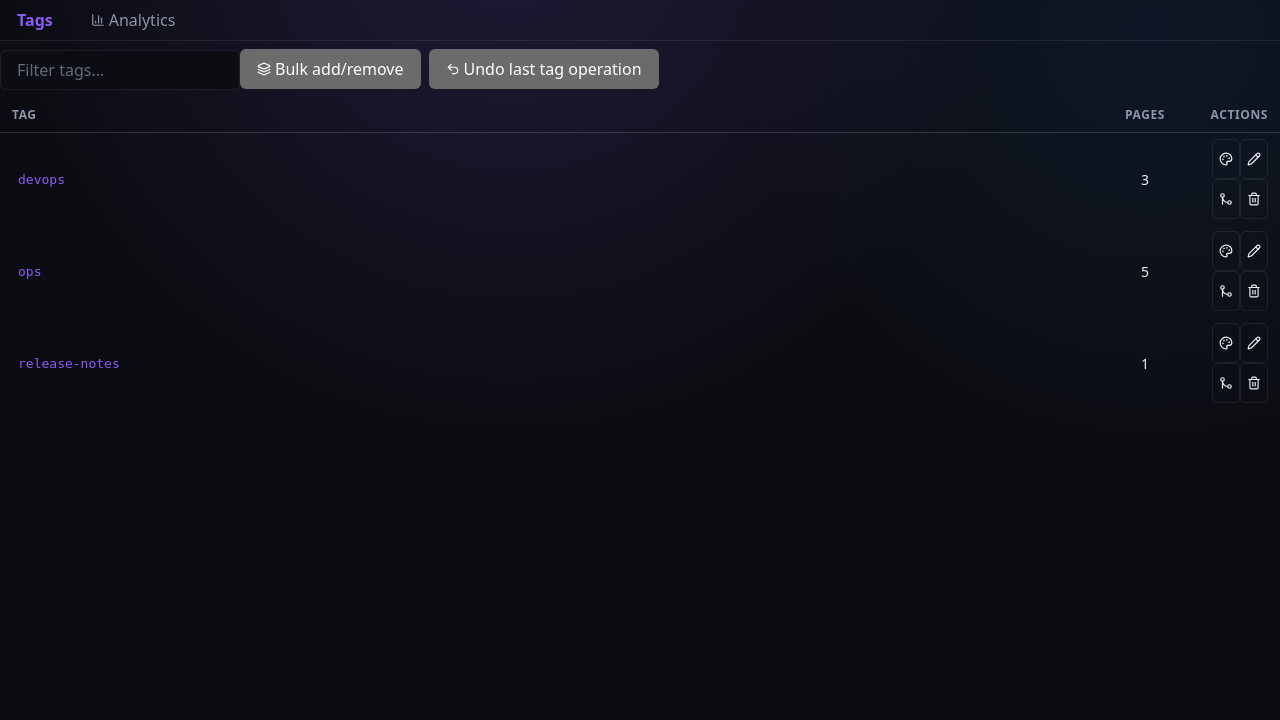
TagManagement (TM-04) › delete: preview with a body_affected page renders the body #tags marker (TR-05)
expect the table is shown: met, box [0, 98, 1279, 409]
// Open delete for "ops" — auto-preview fires and returns a body_affected page.
Click the 2nd button named "delete". click: x=1254, y=291
box: [1240, 271, 1268, 311]
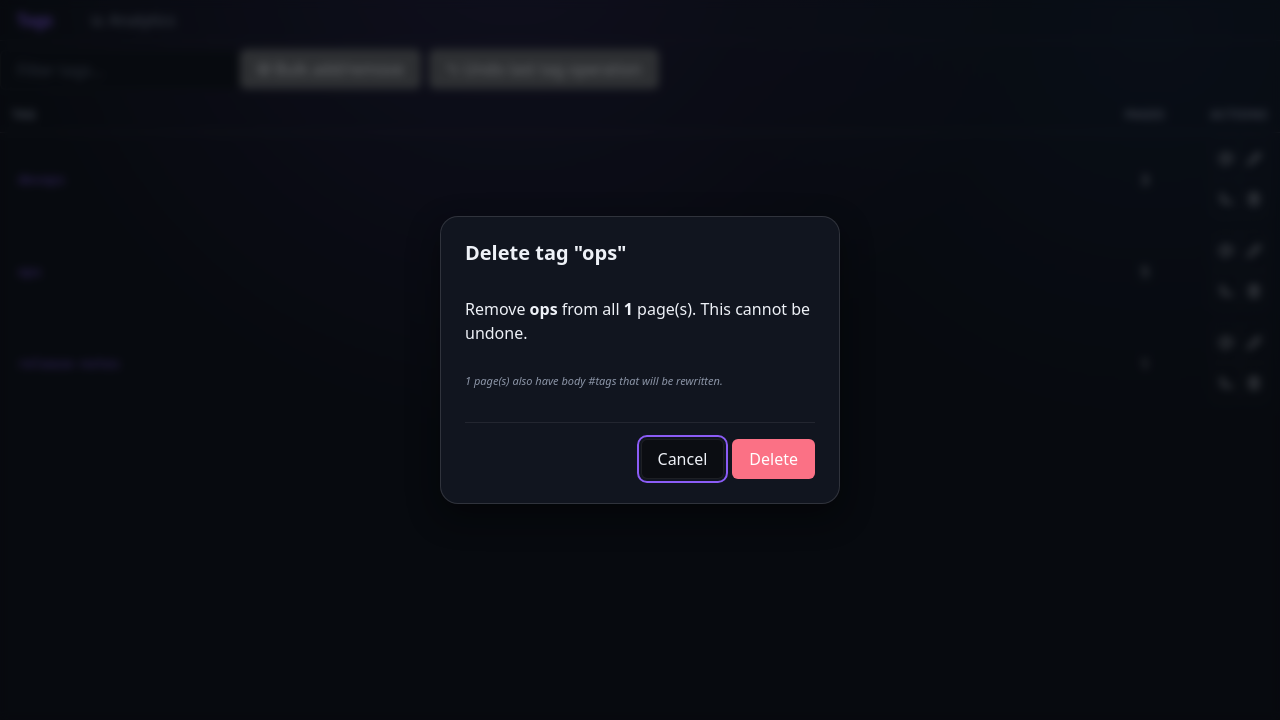
expect the text "1 page(s) also have body #tags that will be rewritten." is shown: met, box [465, 373, 723, 388]
